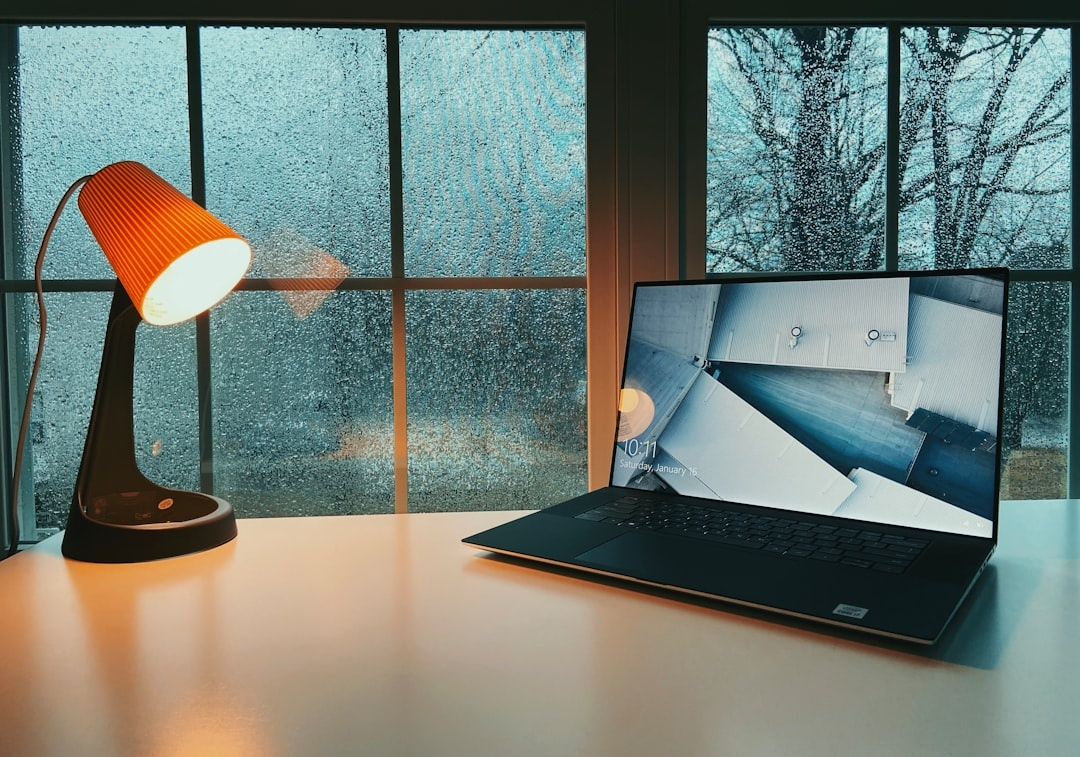laptop: (451, 255, 1072, 661)
